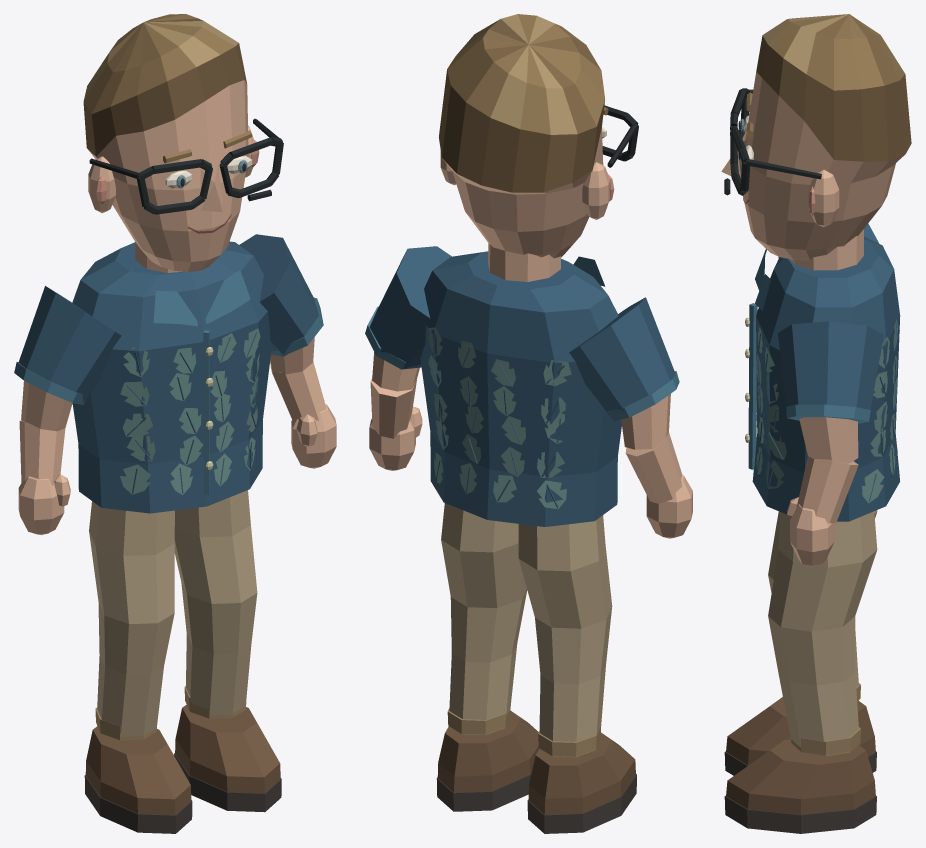
File: bobby.glb
The picture shows the model from 3 angles, left to right: view 1: azimuth 30°, elevation 25°; view 2: azimuth 150°, elevation 25°; view 3: azimuth 270°, elevation 25°; orthographic projection.
Visible parts, largest first — view 1: Hawaiian shirt, Head and swept hair, Khaki leg, Khaki leg.001, Suede shoe.001, Suede shoe, Short sleeve, Short sleeve.001, Forearm, Outsole, Hand, Forearm.001 (+11 smaller); view 2: Hawaiian shirt, Head and swept hair, Khaki leg, Khaki leg.001, Short sleeve, Suede shoe, Suede shoe.001, Short sleeve.001, Forearm, Outsole, Forearm.001, Neck (+9 smaller); view 3: Head and swept hair, Hawaiian shirt, Khaki leg.001, Suede shoe.001, Short sleeve.001, Suede shoe, Outsole.001, Forearm.001, Upper arm.001, Hand.001, Shirt placket, Ear.001 (+7 smaller).
Part boxes in pixels (x1,y1,x2,y2): Hawaiian shirt: (72,241,271,513); Head and swept hair: (83,14,248,271); Khaki leg: (89,501,174,740); Khaki leg.001: (174,490,257,718); Suede shoe.001: (175,705,280,793); Suede shoe: (85,726,191,815); Short sleeve: (18,286,121,405); Short sleeve.001: (239,234,318,356); Forearm: (19,420,65,485); Outsole: (84,775,192,833); Hand: (18,476,64,535); Forearm.001: (270,362,326,422); Hawaiian shirt: (420,251,621,526); Head and swept hair: (439,14,605,258); Khaki leg: (518,515,612,757); Khaki leg.001: (441,503,527,735); Short sleeve: (569,297,674,416); Suede shoe: (528,732,635,814); Suede shoe.001: (437,710,539,792); Short sleeve.001: (369,246,451,368); Forearm: (625,432,682,503); Outsole: (527,774,636,833); Forearm.001: (370,377,417,438); Neck: (488,243,560,281); Head and swept hair: (743,14,911,260); Hawaiian shirt: (752,236,900,521); Khaki leg.001: (768,511,877,755); Suede shoe.001: (726,739,875,814); Short sleeve.001: (777,321,883,421); Suede shoe: (726,697,875,765); Outsole.001: (724,795,876,833); Forearm.001: (796,456,858,523); Upper arm.001: (799,417,858,463); Hand.001: (790,504,834,566); Shirt placket: (748,303,757,469); Ear.001: (808,169,839,227).
Bounding box in the file's own units: 1.23 × 2.84 × 0.6321.
